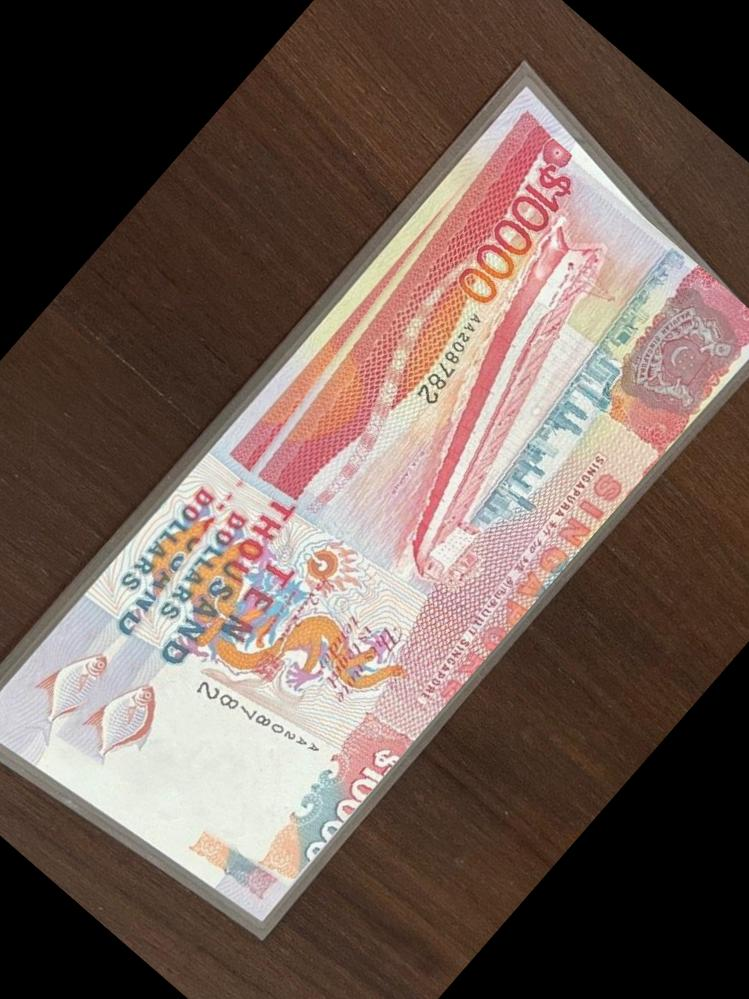10000SingaporeDollar: (7, 108, 749, 916)
